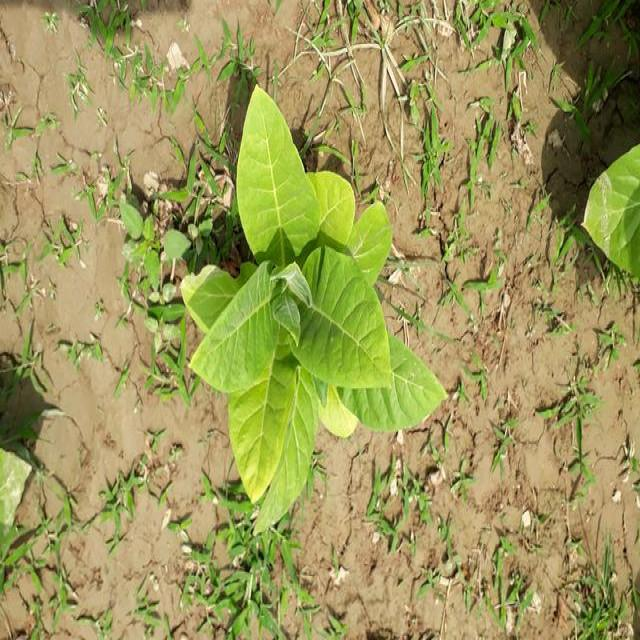crop: (180, 85, 447, 527)
